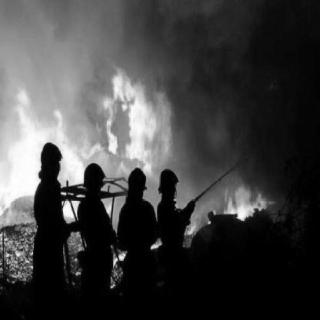Fire: (54, 67, 176, 176), (0, 83, 36, 199), (218, 180, 272, 218)
